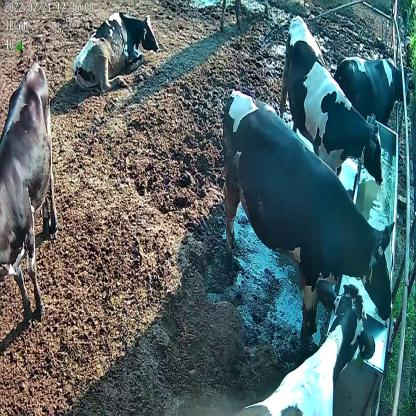cow: (221, 91, 395, 327), (231, 276, 376, 416), (278, 11, 384, 190), (1, 63, 57, 316), (72, 10, 161, 90), (332, 54, 413, 119)
